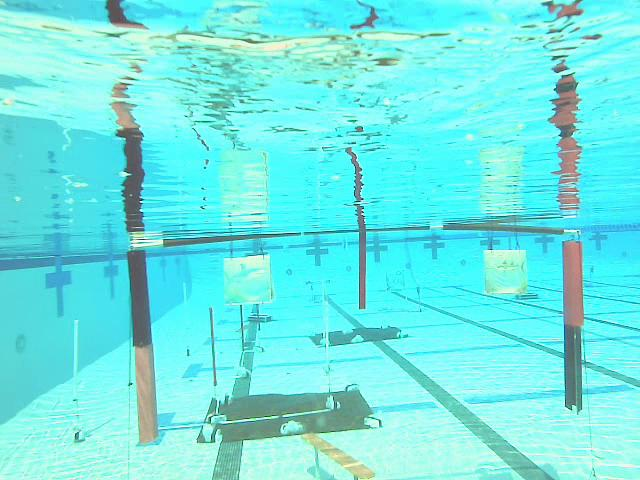black_poster: (208, 307, 221, 385)
divider: (358, 233, 367, 308)
left_gate_poster: (126, 253, 162, 445)
right_gate_poster: (558, 238, 588, 413)
swordfish: (481, 251, 528, 293)
white_poster: (71, 320, 83, 440), (181, 280, 194, 356)
